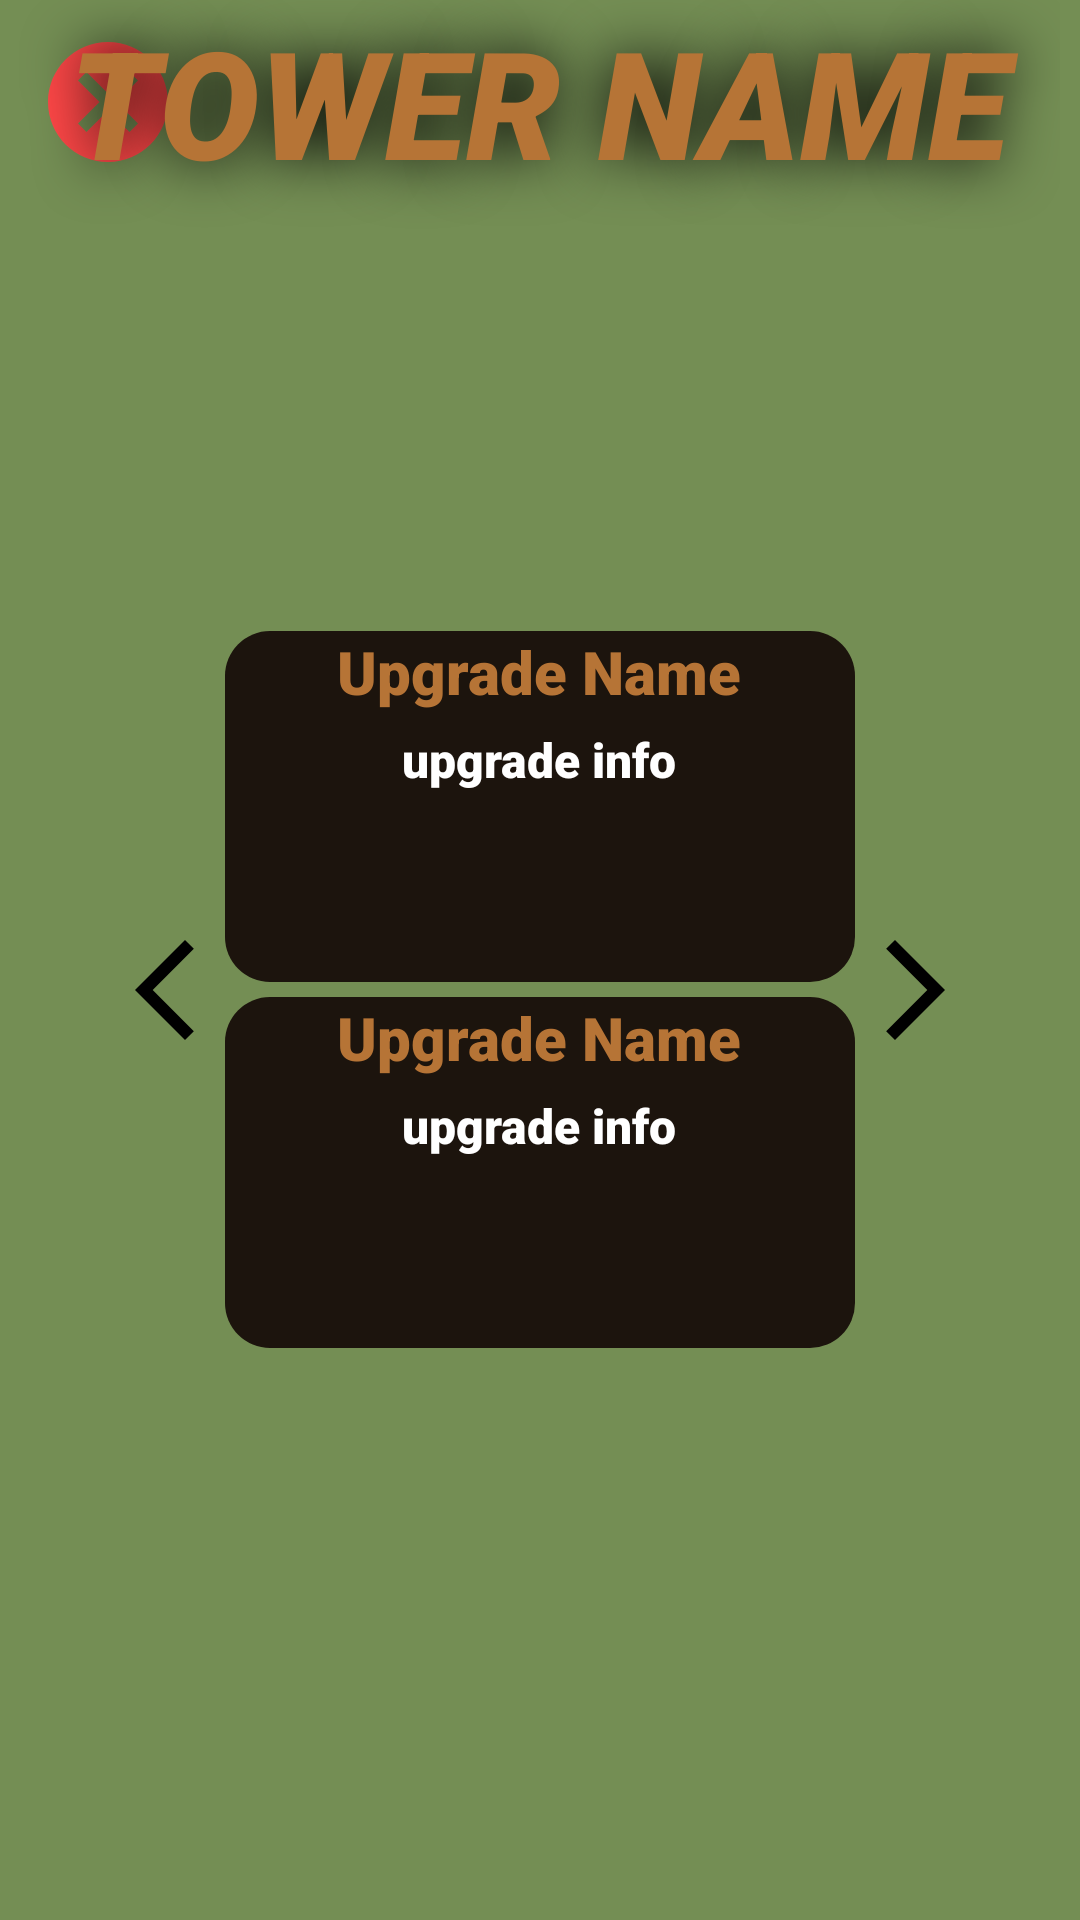

Icons on this 1080px x 1920px Android screen, each with the point to tap as (x,y):
left arrow: (164,990)
right arrow: (915,990)
